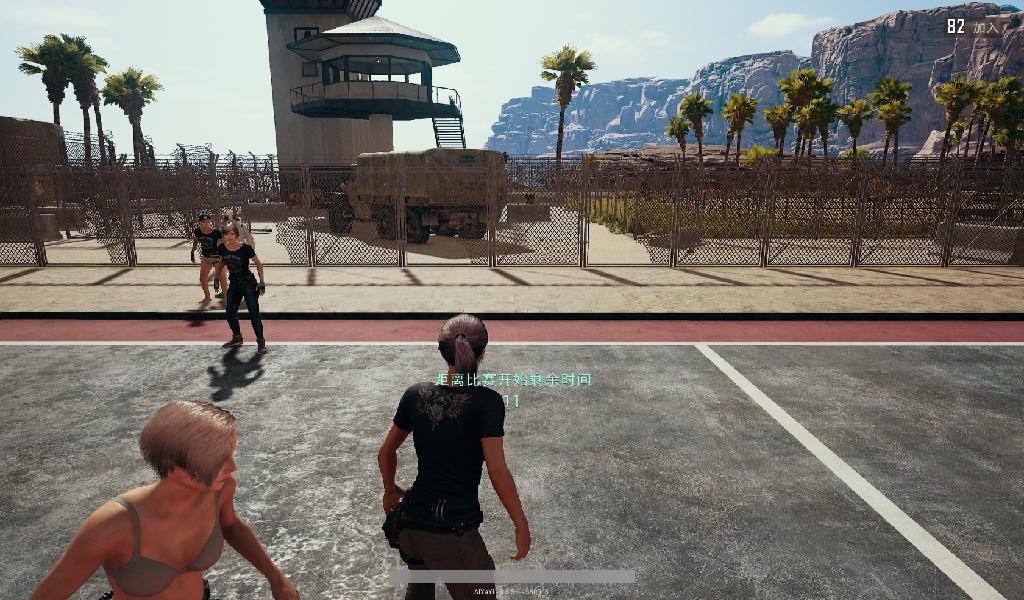Target Person: (20, 402, 302, 600), (365, 313, 535, 600), (213, 225, 269, 360), (188, 214, 228, 316)
